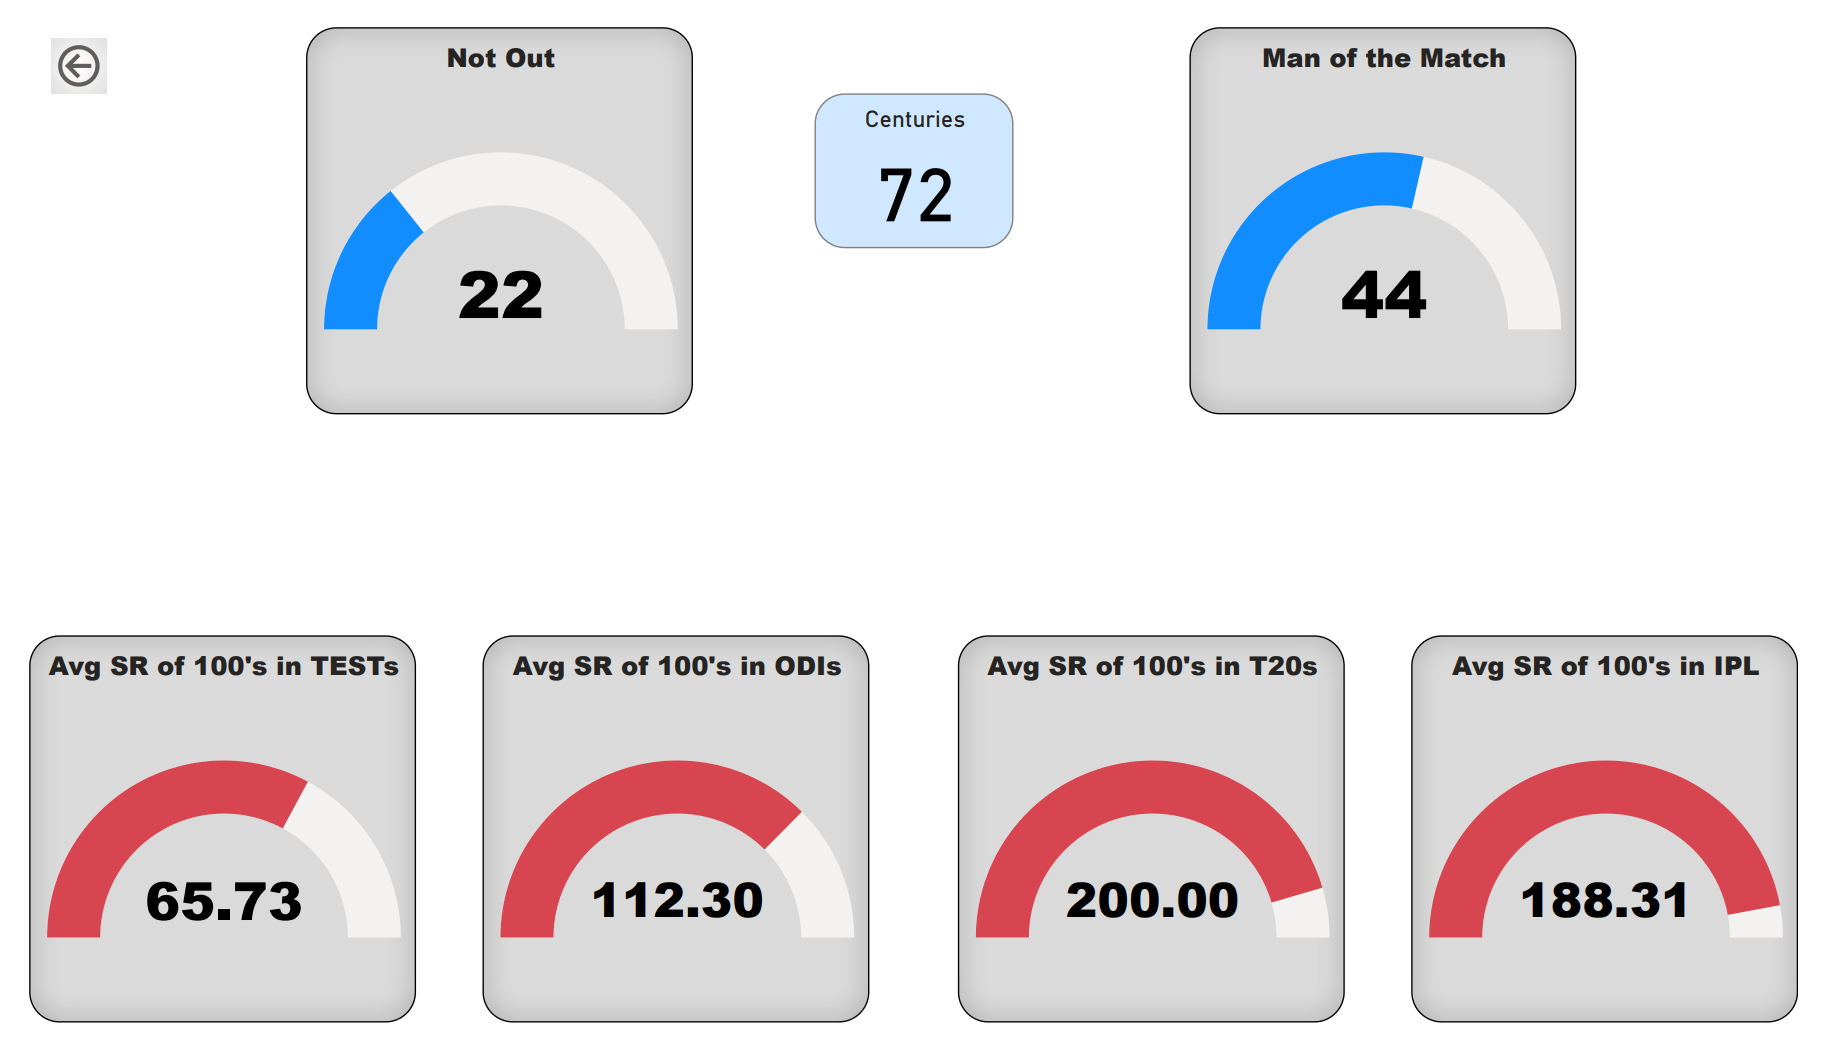

What the dashboard file says about the page in this screenshot:
{"tool":"powerbi","page":{"name":"Page 2","canvas":[1280,720],"ordinal":1},"visuals":[{"type":"gauge","title":"Avg SR of 100''s in T20s","fields":{"Y":["Virat_Kohli_100s (31st Dec 2022).Strike Rate"]},"box":[672,440,280,280],"z":0},{"type":"gauge","title":"Avg SR of 100''s in ODIs","fields":{"Y":["Virat_Kohli_100s (31st Dec 2022).Strike Rate"]},"box":[328,440,280,280],"z":1000},{"type":"gauge","title":"Avg SR of 100''s in TESTs","fields":{"Y":["Virat_Kohli_100s (31st Dec 2022).Strike Rate"]},"box":[0,440,280,280],"z":2000},{"type":"gauge","title":"Avg SR of 100''s in IPL","fields":{"Y":["Virat_Kohli_100s (31st Dec 2022).Strike Rate"]},"box":[1000,440,280,280],"z":3000},{"type":"gauge","title":"Man of the Match","fields":{"Y":["Virat_Kohli_100s (31st Dec 2022).MOTM"]},"box":[840,0,280,280],"z":4000},{"type":"gauge","title":"Not Out","fields":{"Y":["Virat_Kohli_100s (31st Dec 2022).Not Out"]},"box":[200,0,280,280],"z":5000},{"type":"actionButton","box":[16,8,40,40],"z":6000},{"type":"card","title":"Centuries","fields":{"Values":["Virat_Kohli_100s (31st Dec 2022).Number"]},"box":[568,48,144,112],"z":7000}]}

Visuals, with their boxes in screenshot pixels (x1, y1, x2, y2), scaled from the page's 1280x720 canvas onto the 1827x1048 screenshot:
"Avg SR of 100''s in T20s" gauge: bbox=(959, 640, 1359, 1047)
"Avg SR of 100''s in ODIs" gauge: bbox=(468, 640, 868, 1047)
"Avg SR of 100''s in TESTs" gauge: bbox=(0, 640, 400, 1047)
"Avg SR of 100''s in IPL" gauge: bbox=(1427, 640, 1826, 1047)
"Man of the Match" gauge: bbox=(1199, 0, 1599, 408)
"Not Out" gauge: bbox=(285, 0, 685, 408)
actionButton: bbox=(23, 12, 80, 70)
"Centuries" card: bbox=(811, 70, 1016, 233)
